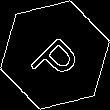P_NE: (24, 24, 86, 86)
